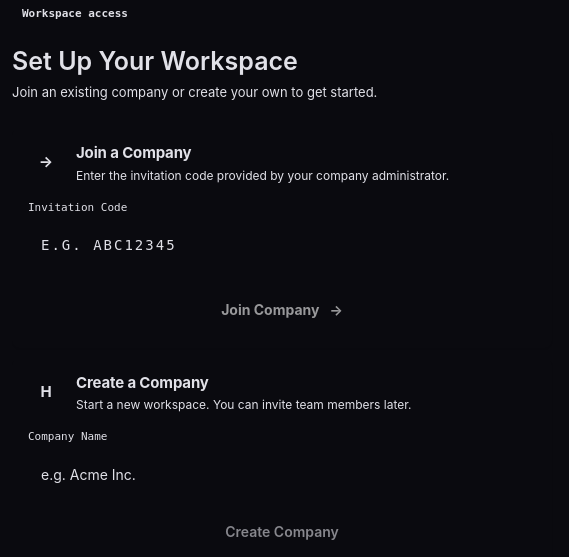
Scenario: CompanySetup invitation recovery › announces a failed join and restores the submit action
In the field labelled "Invitation Code": (282, 245) [28, 224, 536, 266], type "USED-CODE"
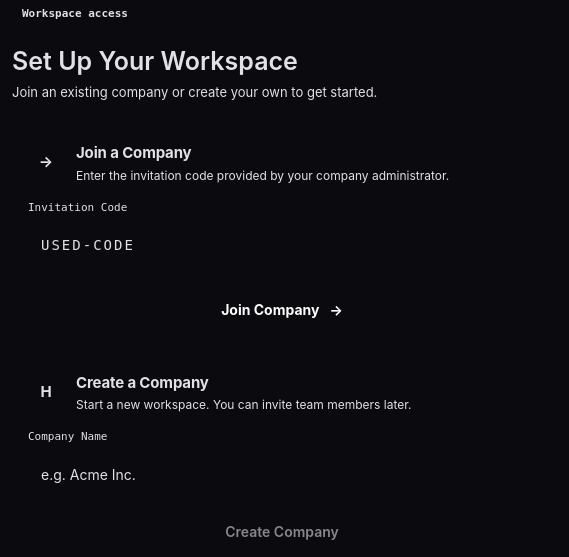
Click the button "Join Company →": (282, 310) [28, 288, 536, 332]
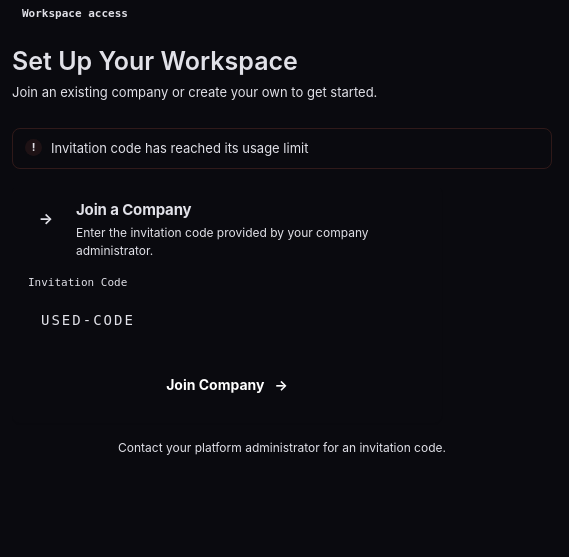
Expected: the button "Join Company →" is enabled, [28, 362, 426, 406]
Expected: the message shows "Invitation code has reached its usage limit", [51, 140, 308, 156]
